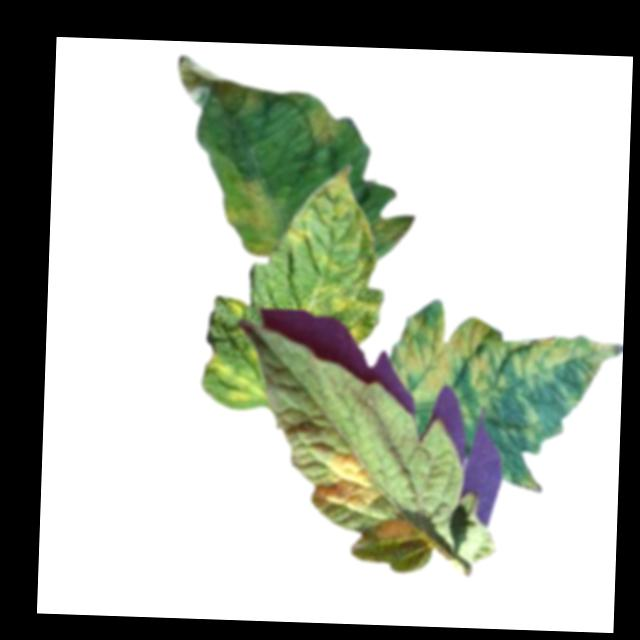Leaf_Mold: (393, 300, 624, 410), (284, 166, 380, 287), (174, 52, 261, 120), (301, 279, 386, 343), (219, 178, 285, 257), (314, 448, 382, 514), (204, 346, 268, 406), (304, 102, 348, 149), (371, 212, 414, 249), (371, 514, 413, 545), (223, 294, 247, 318)
